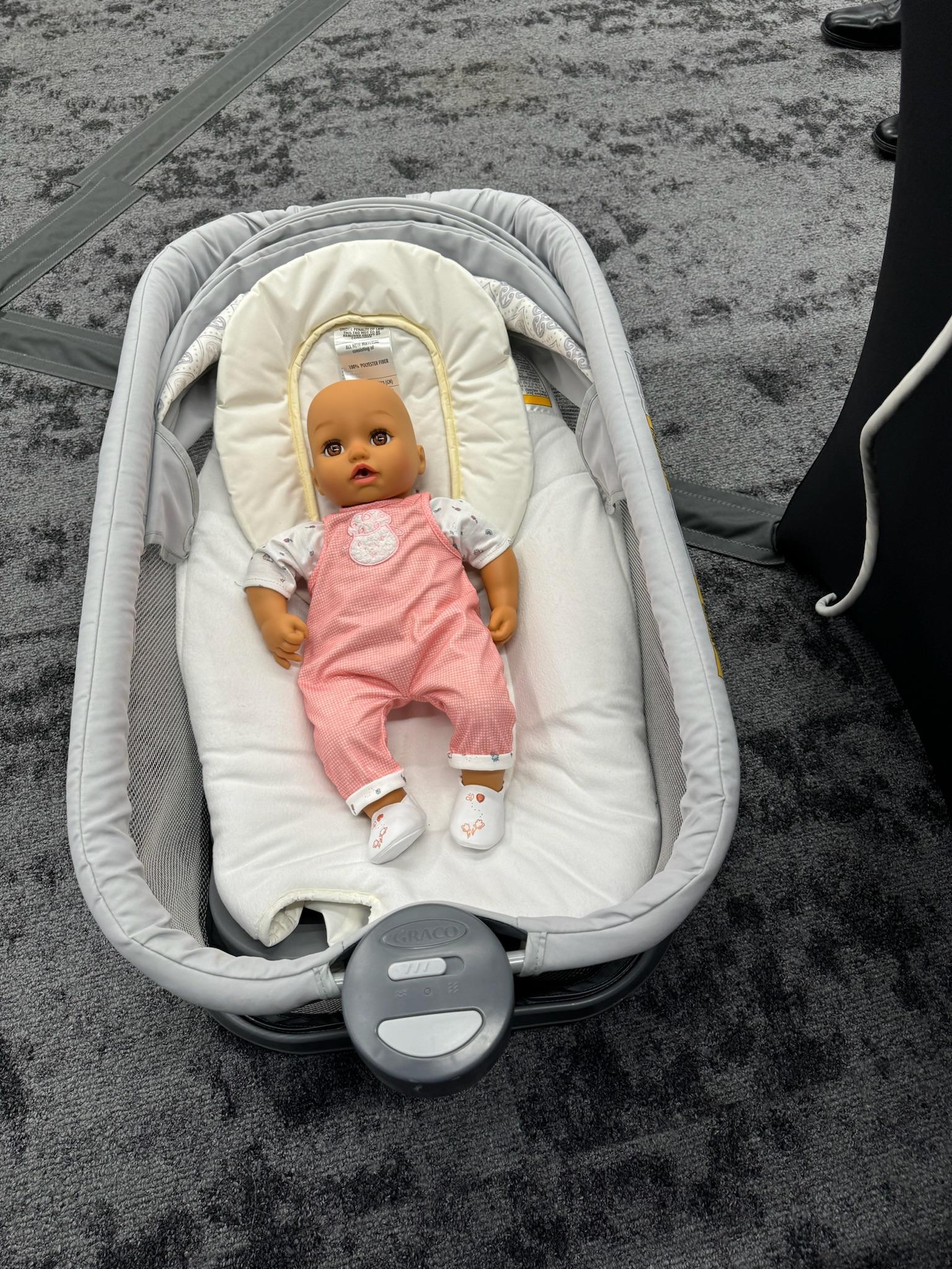baby: (242, 372, 554, 858)
